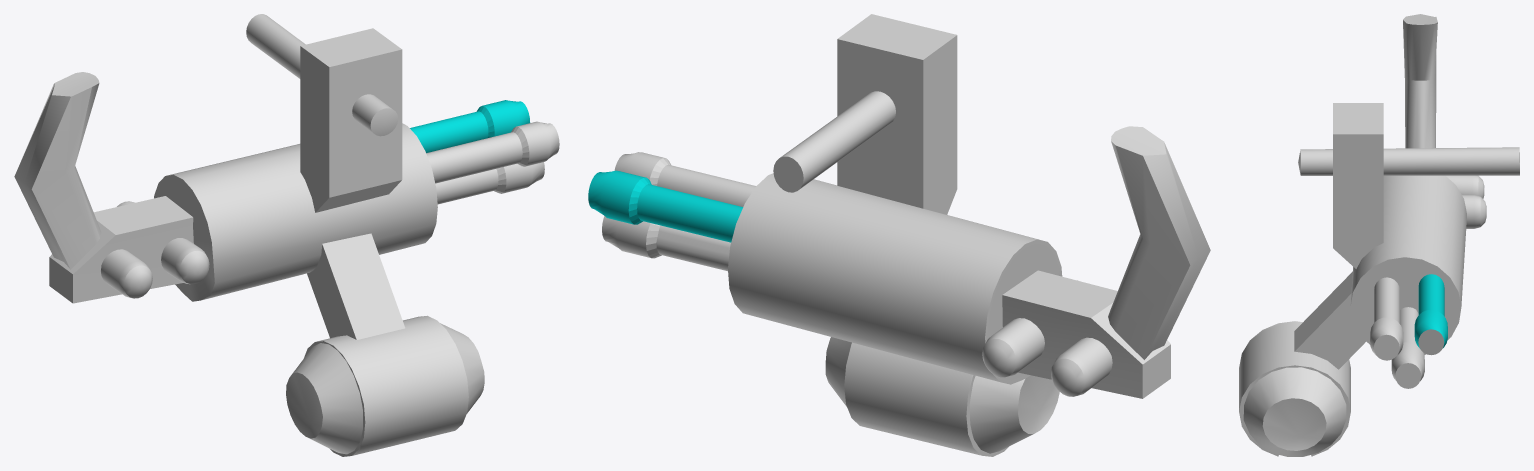
File: Ryans minigun.fbx
3 views of the same model, side by side, from view 1: azimuth 30°, elevation 25°; view 2: azimuth 150°, elevation 25°; view 3: azimuth 270°, elevation 25° (orthographic). The views are drawn at different scales.
Parts seen in each view (by area): view 1: pCylinder2, pCube5, pCylinder1, pCube6, pCube3, pCube2, pCylinder12, pCylinder6, pCylinder23, pCylinder13, pCylinder24, pCylinder21 (+2 smaller); view 2: pCylinder2, pCube5, pCube6, pCylinder1, pCube3, pCylinder23, pCylinder12, pCylinder13, pCylinder24, pCylinder6, pCylinder26, pCylinder27 (+1 smaller); view 3: pCylinder2, pCube5, pCylinder11, pCylinder13, pCylinder1, pCube6, pCube2, pCylinder6, pCylinder23, pCylinder24, pCylinder26, pCylinder27.
Part boxes in pixels (left/top/right/bottom): pCylinder2: left=154, top=123, right=437, bottom=301; pCube5: left=300, top=28, right=402, bottom=212; pCylinder1: left=304, top=315, right=468, bottom=456; pCube6: left=14, top=72, right=101, bottom=269; pCube3: left=49, top=196, right=193, bottom=303; pCube2: left=307, top=233, right=405, bottom=339; pCylinder12: left=286, top=343, right=362, bottom=454; pCylinder6: left=426, top=121, right=559, bottom=183; pCylinder23: left=410, top=100, right=530, bottom=152; pCylinder13: left=246, top=14, right=398, bottom=136; pCylinder24: left=435, top=162, right=544, bottom=204; pCylinder21: left=101, top=249, right=152, bottom=298; pCylinder2: left=728, top=173, right=1062, bottom=384; pCube5: left=837, top=14, right=957, bottom=214; pCube6: left=1108, top=126, right=1210, bottom=359; pCylinder1: left=844, top=342, right=1008, bottom=456; pCube3: left=1002, top=270, right=1170, bottom=398; pCylinder23: left=588, top=170, right=743, bottom=242; pCylinder12: left=969, top=375, right=1059, bottom=453; pCylinder13: left=773, top=91, right=895, bottom=192; pCylinder24: left=602, top=216, right=730, bottom=271; pCylinder6: left=614, top=152, right=755, bottom=206; pCylinder26: left=982, top=318, right=1044, bottom=377; pCylinder27: left=1051, top=337, right=1112, bottom=396; pCylinder2: left=1350, top=175, right=1466, bottom=354; pCube5: left=1333, top=103, right=1383, bottom=268; pCylinder11: left=1243, top=367, right=1346, bottom=456; pCylinder13: left=1298, top=147, right=1519, bottom=175; pCylinder1: left=1239, top=321, right=1350, bottom=456; pCube6: left=1403, top=14, right=1437, bottom=148; pCube2: left=1294, top=272, right=1365, bottom=369; pCylinder6: left=1370, top=277, right=1403, bottom=360; pCylinder23: left=1414, top=274, right=1447, bottom=355; pCylinder24: left=1391, top=307, right=1424, bottom=388; pCylinder26: left=1462, top=195, right=1486, bottom=228; pCylinder27: left=1446, top=175, right=1484, bottom=198.
Bounding box in the file's own units: 2702 × 1853 × 1474.
